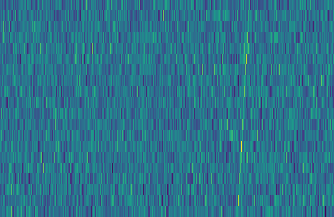signal: (234, 0, 255, 217)
